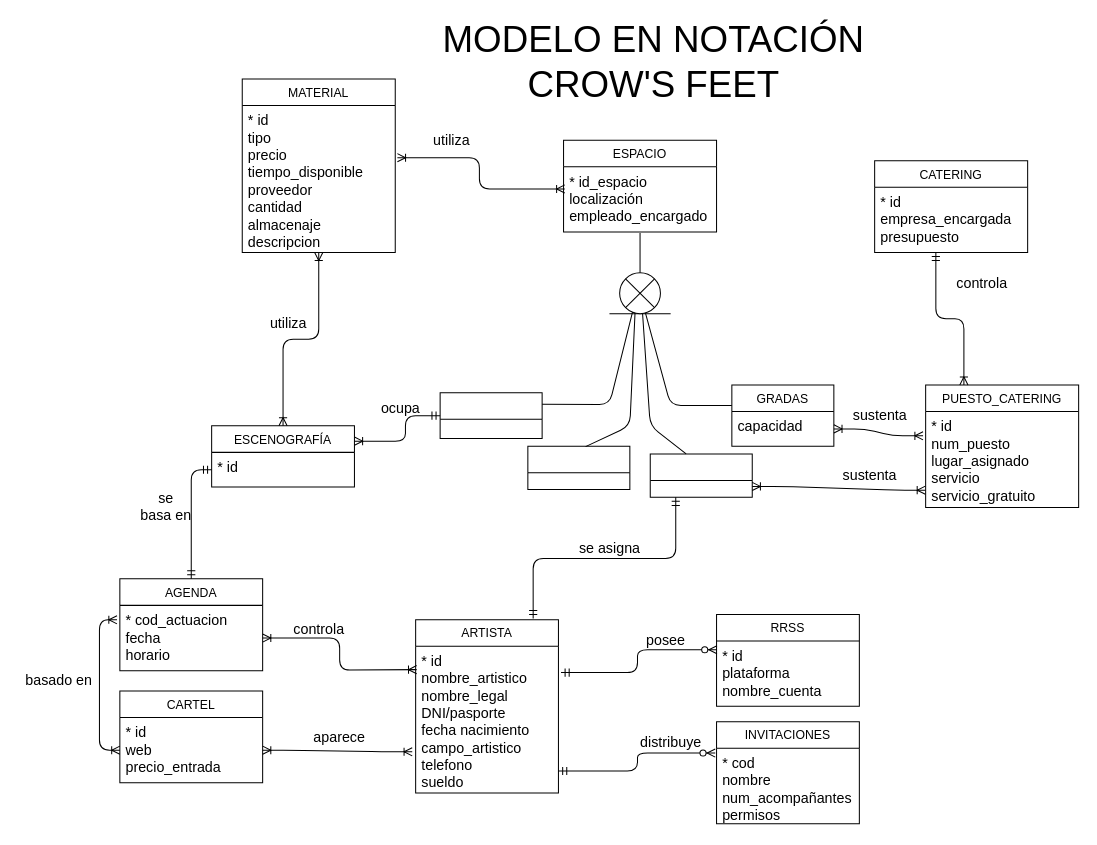
Some shapes in this 1097 by 845 pixel diagram are drawn without their labels. Here are the shapes that lost their labels. From the top down, the centre of each, then its label:
At point 490,415: "ESCENARIO".
At point 578,467: "BACKSTAGE".
At point 700,475: "CAMERINO".
